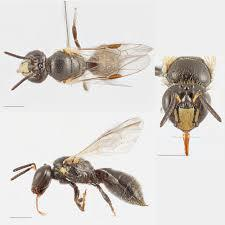Braunsapis: (6, 110, 153, 225), (9, 28, 141, 92), (155, 52, 224, 168)
